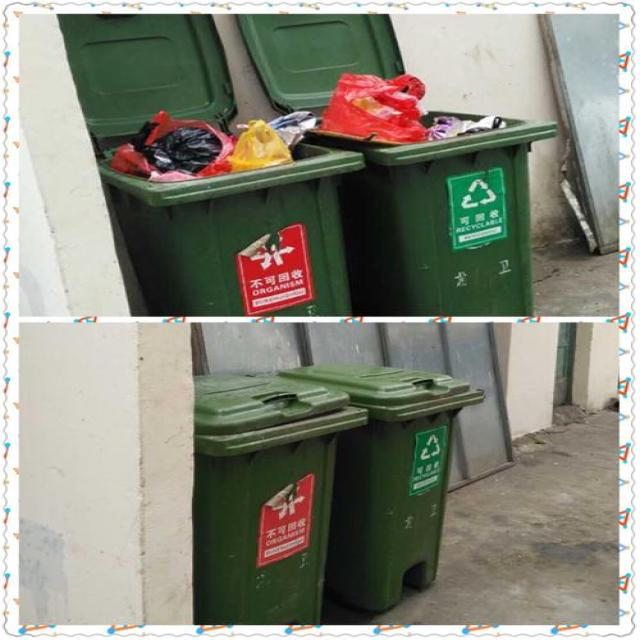garbage_bin: (282, 365, 484, 608), (192, 374, 367, 619)
overflow: (303, 72, 558, 314), (98, 108, 362, 316)
